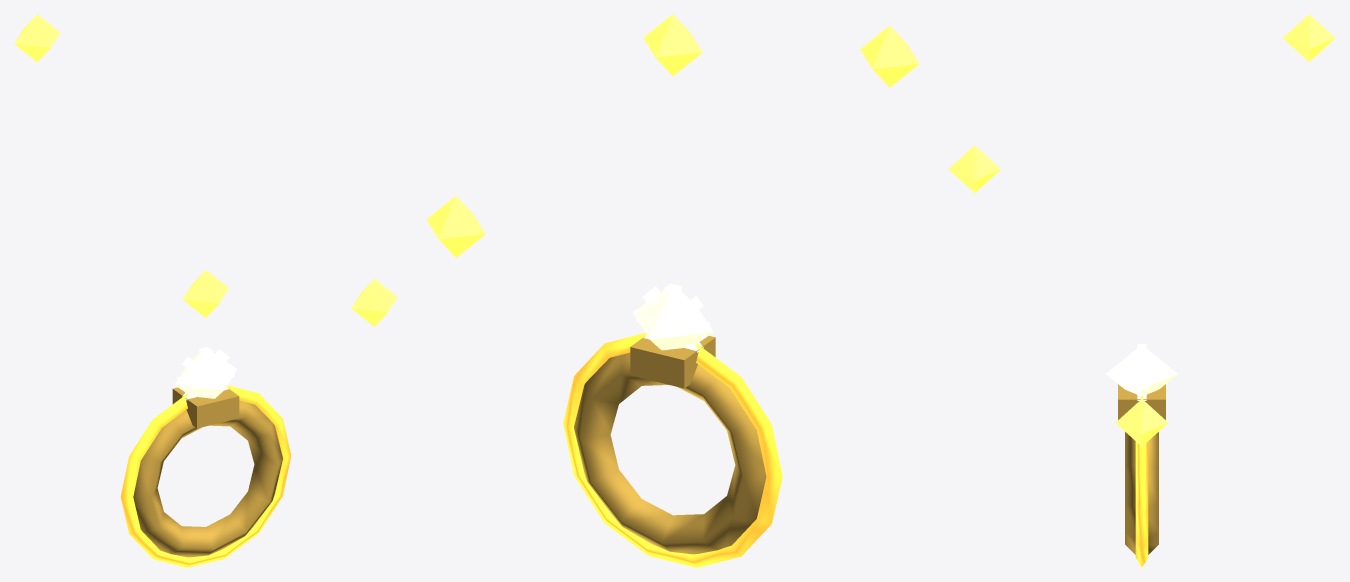
File: legend_ring_starlight.glb
3 views of the same model, side by side, from view 1: azimuth 30°, elevation 25°; view 2: azimuth 150°, elevation 25°; view 3: azimuth 270°, elevation 25° (orthographic). The views are drawn at different scales.
Visible parts, largest first — view 1: item_ringBand4, item_legendGlow, item_legendSpark, item_ringGem4, item_starRay; view 2: item_ringBand4, item_legendGlow, item_legendSpark, item_ringGem4, item_starRay; view 3: item_legendSpark, item_ringBand4, item_ringGem4, item_legendGlow.
Part boxes in pixels (x1=…): item_ringBand4: x1=133, y1=387, x2=282, y2=557; item_legendGlow: x1=120, y1=385, x2=291, y2=567; item_legendSpark: x1=14, y1=14, x2=397, y2=326; item_ringGem4: x1=174, y1=347, x2=237, y2=398; item_starRay: x1=177, y1=346, x2=234, y2=400; item_ringBand4: x1=574, y1=336, x2=766, y2=554; item_legendGlow: x1=563, y1=333, x2=782, y2=567; item_legendSpark: x1=426, y1=14, x2=919, y2=257; item_ringGem4: x1=632, y1=284, x2=713, y2=350; item_starRay: x1=636, y1=283, x2=709, y2=352; item_legendSpark: x1=948, y1=14, x2=1335, y2=446; item_ringBand4: x1=1118, y1=384, x2=1165, y2=554; item_ringGem4: x1=1106, y1=345, x2=1177, y2=394; item_legendGlow: x1=1135, y1=395, x2=1148, y2=567.
Bounding box in the file's own units: 0.3976 × 0.6454 × 0.4496.
